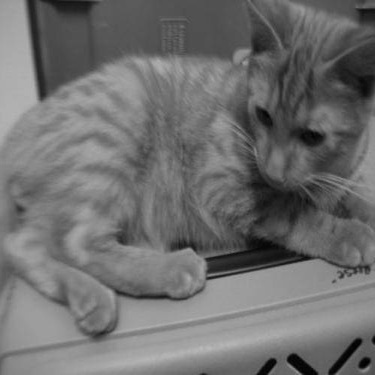cat: (15, 23, 370, 336)
